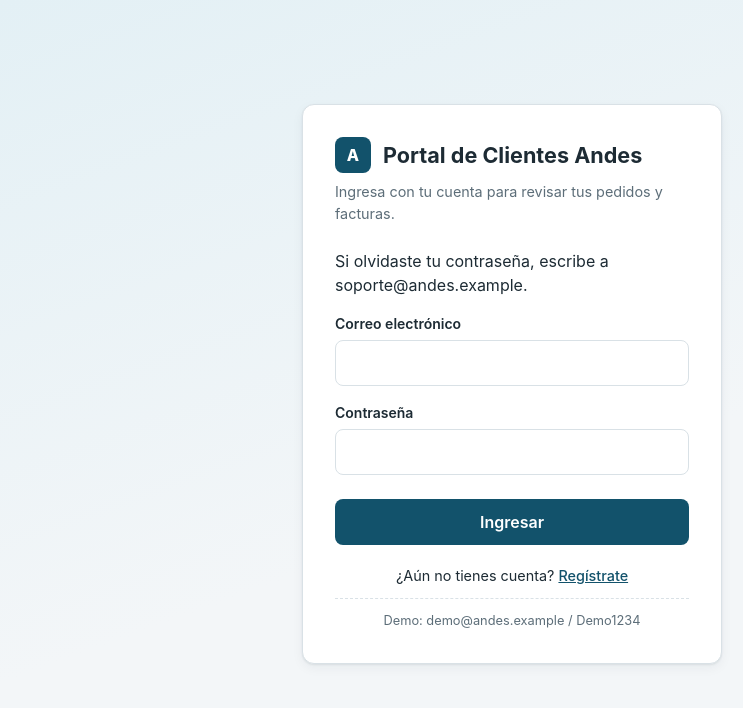
LoginPage › valida los campos vacíos
Click the button "Ingresar" at (512, 522), box [335,499,689,545]
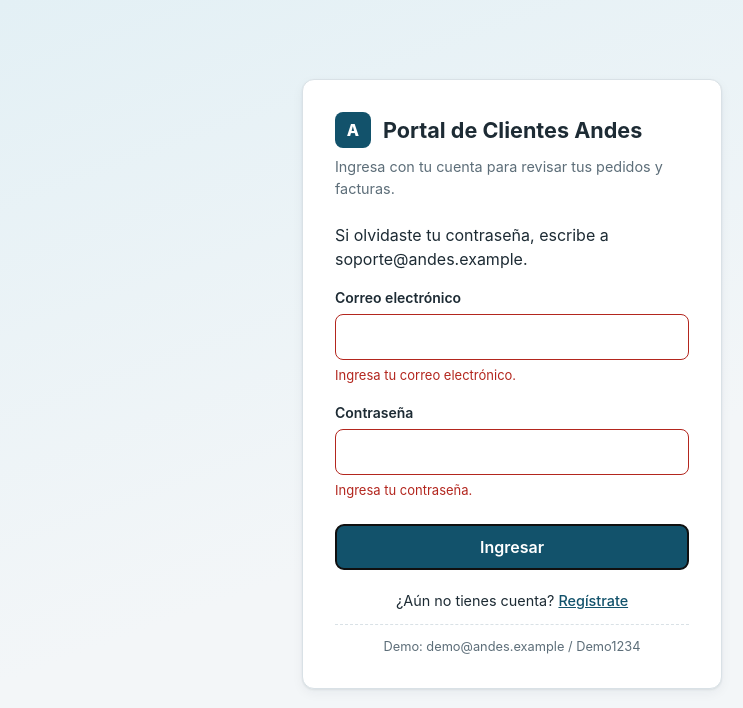
Expected: the text "Ingresa tu correo electrónico." is shown, [335,367,516,383]
Expected: the text "Ingresa tu contraseña." is shown, [335,482,472,498]
